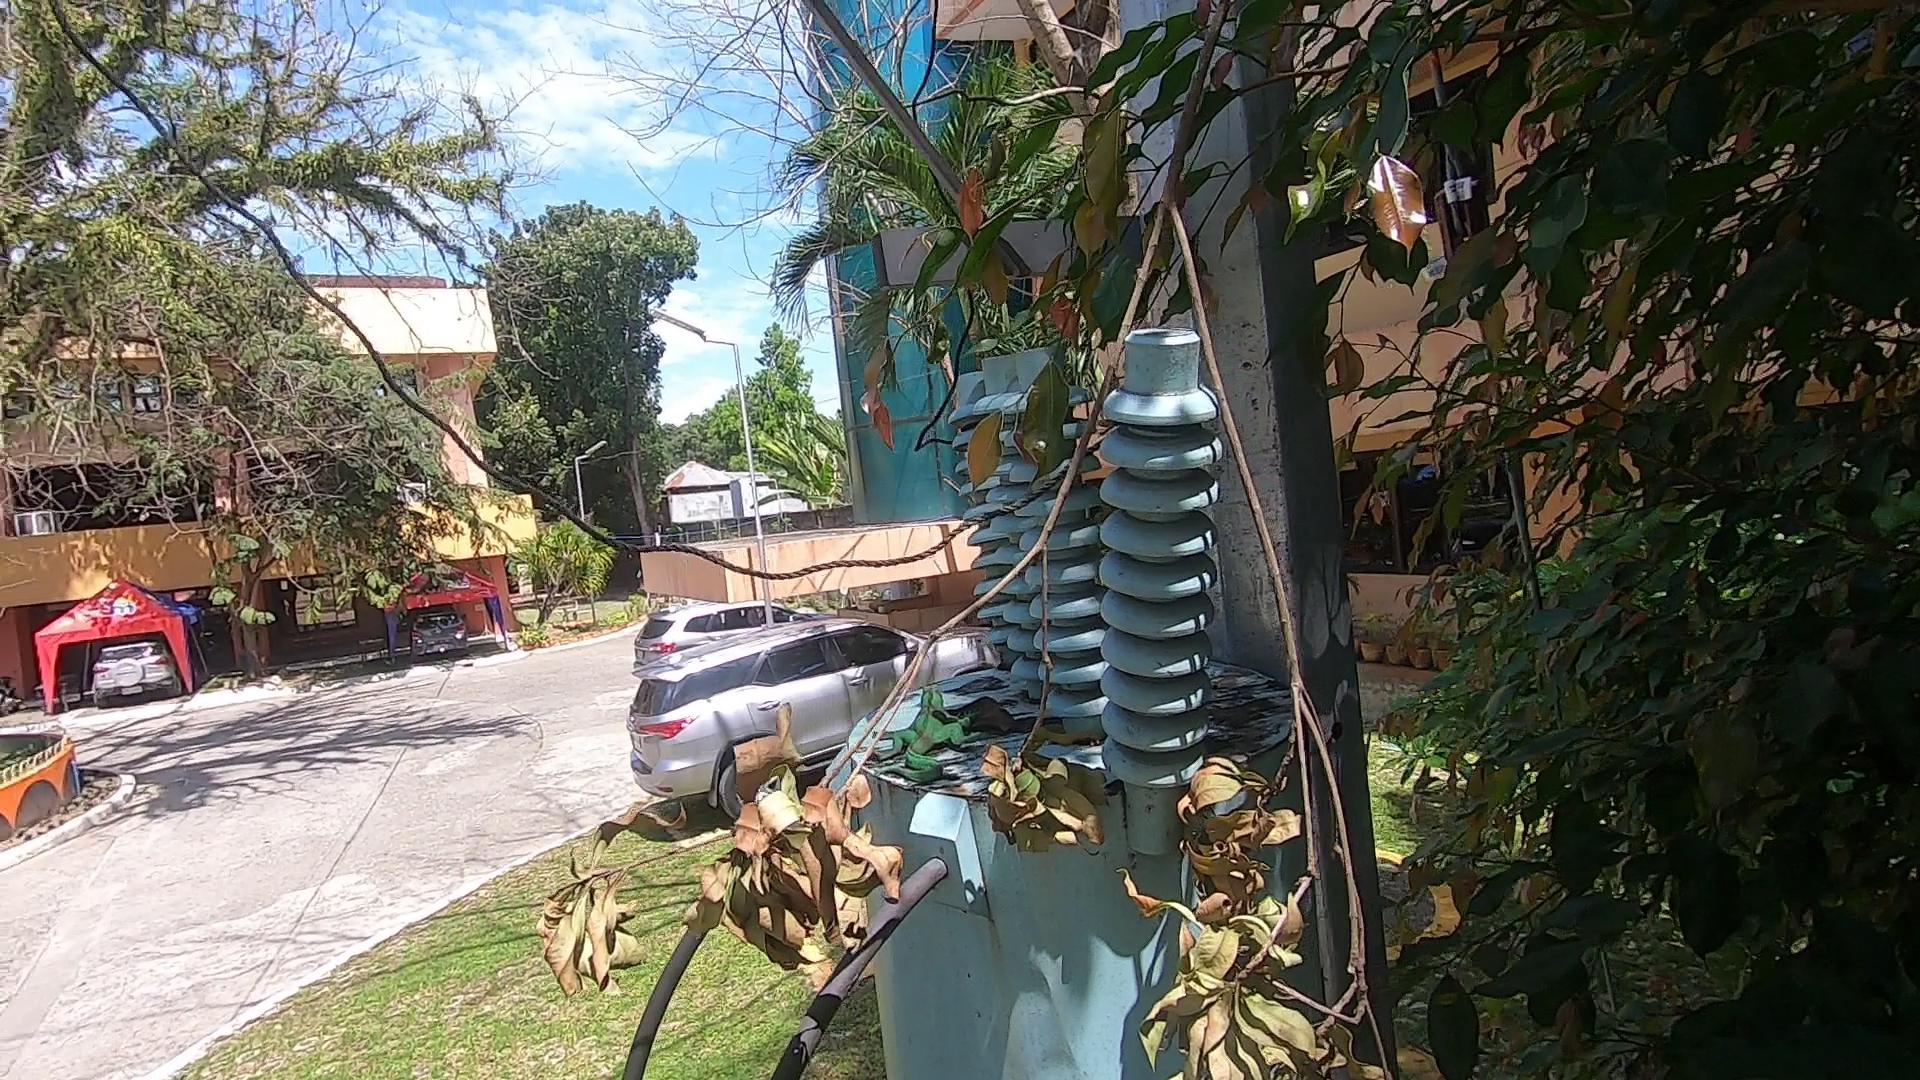branch with leaves: (517, 3, 1389, 1077)
leaf: (963, 682, 1019, 746)
